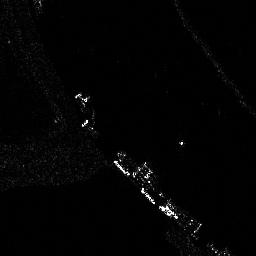ship: (76, 91, 96, 126)
